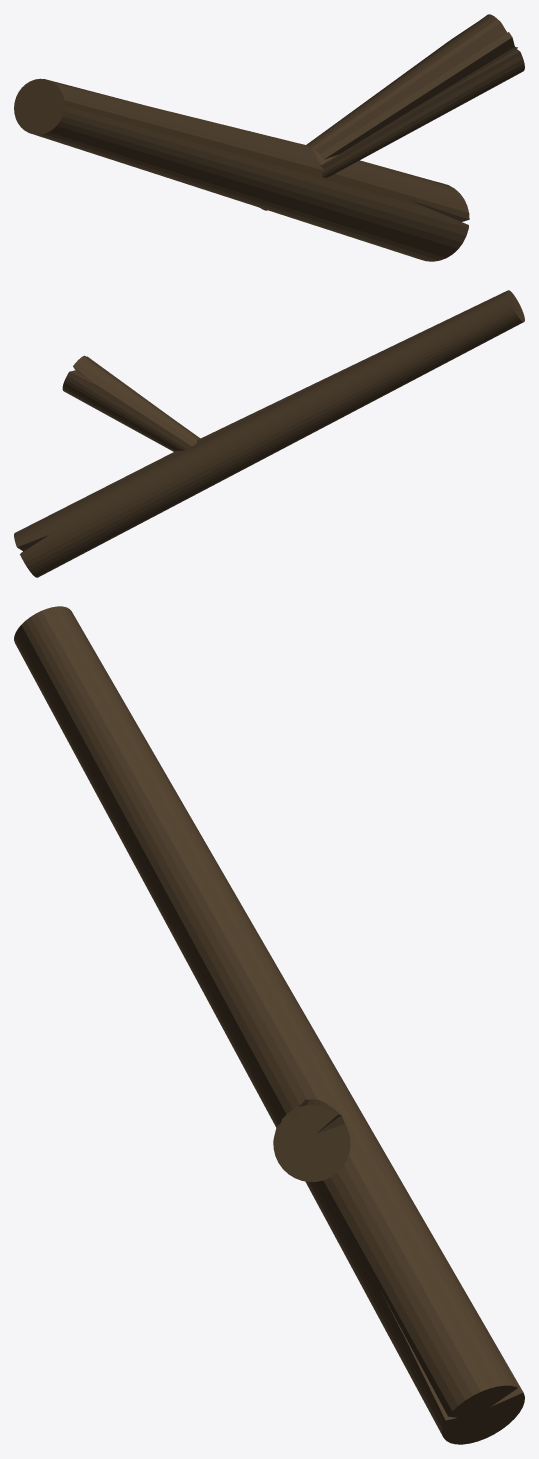
Rendered from Pedang.glb.
3 renders of one model, top to bottom at view 1: azimuth 30°, elevation 25°; view 2: azimuth 150°, elevation 25°; view 3: azimuth 270°, elevation 25°, orthographic. The views are drawn at different scales.
Parts seen in each view (by area): view 1: stick; view 2: stick; view 3: stick.
Part boxes in pixels (x1,y1,x2,y2): stick: [14, 14, 524, 261]; stick: [14, 290, 524, 577]; stick: [14, 606, 524, 1444].
Bounding box in the file's own units: 2.14 × 1.48 × 1.32.
